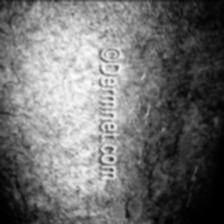Non-Cancerous Skin Condition: (122, 51, 212, 196)
